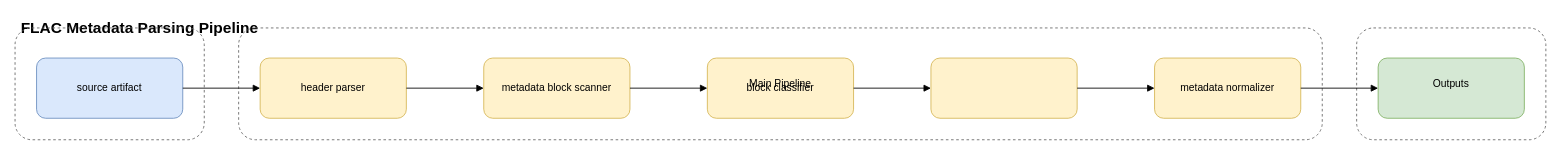
The diagram is 1561 pixels wide and 155 high, and some of its shapes have lost their labels. The box of each missing label's shape, as (x1, y1, x2, y2) in pixels:
field extractor: (930, 57, 1077, 118)
Inputs: (14, 27, 204, 140)
scientific figure: (1377, 57, 1524, 118)
